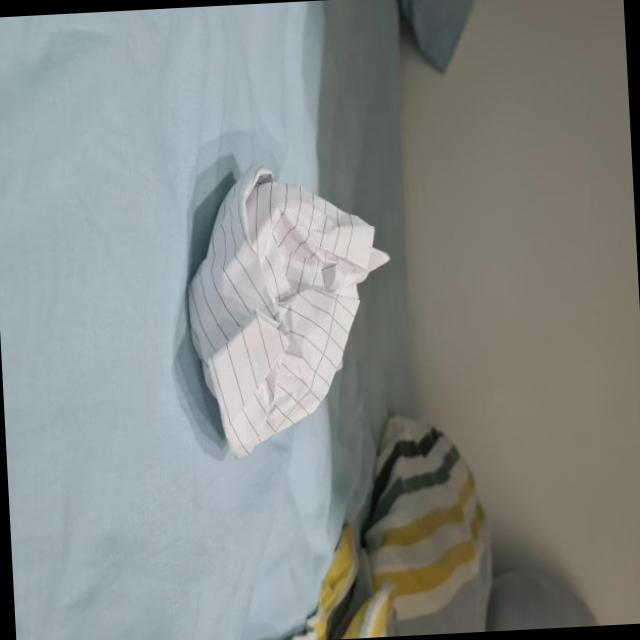cardboard paper: (191, 167, 390, 457)
